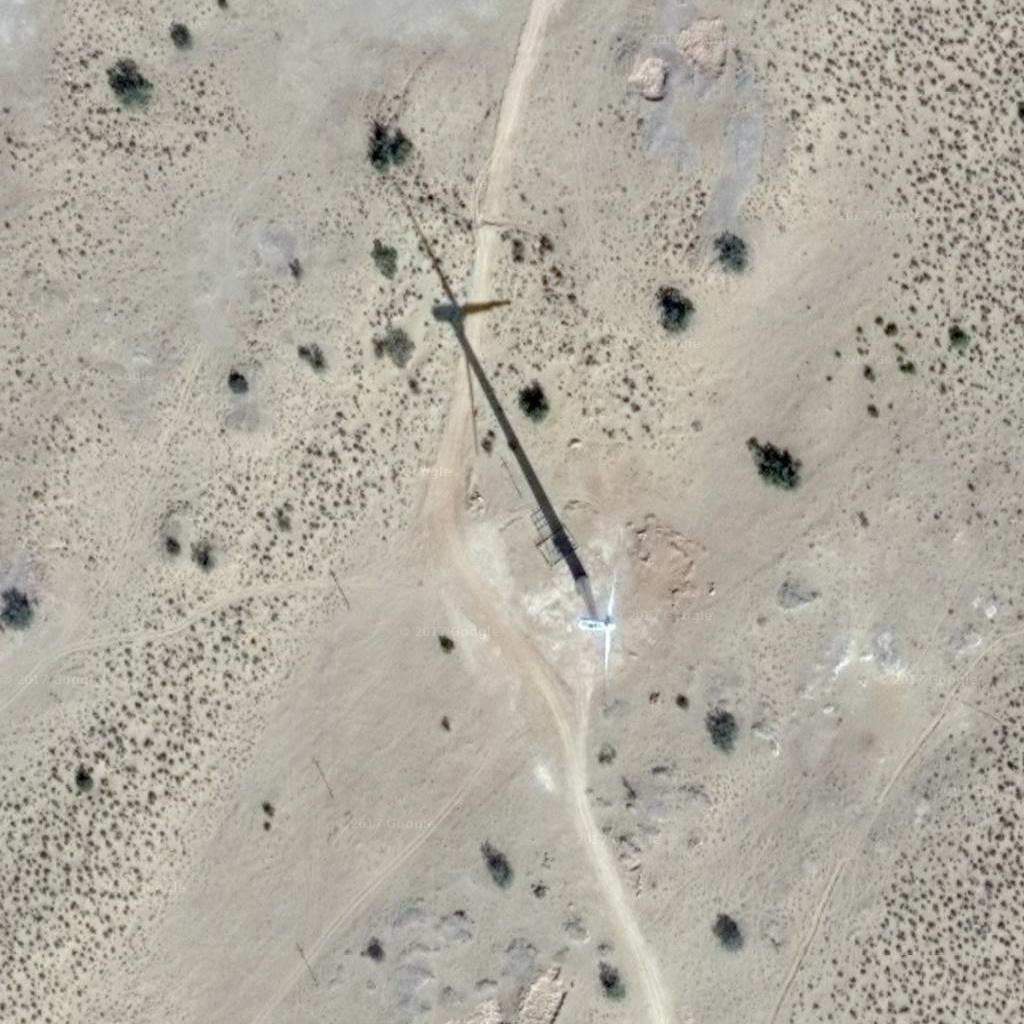Windmill: (388, 187, 586, 572)
